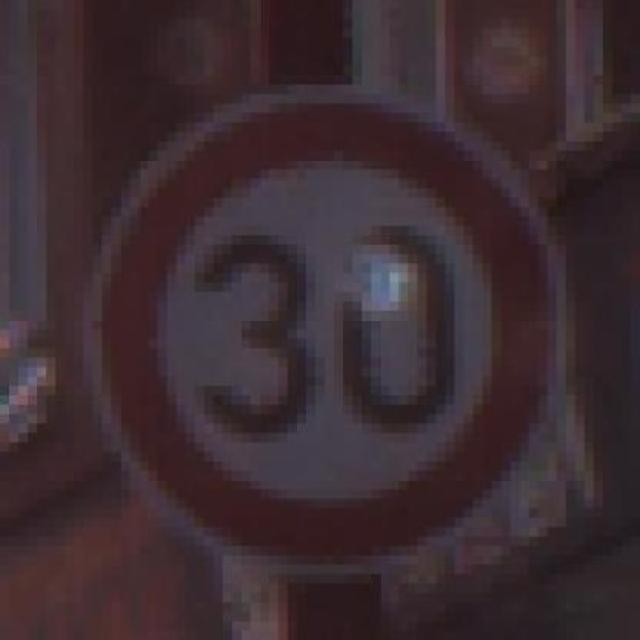Speed Limit 30 KMPh: (37, 95, 603, 593)
